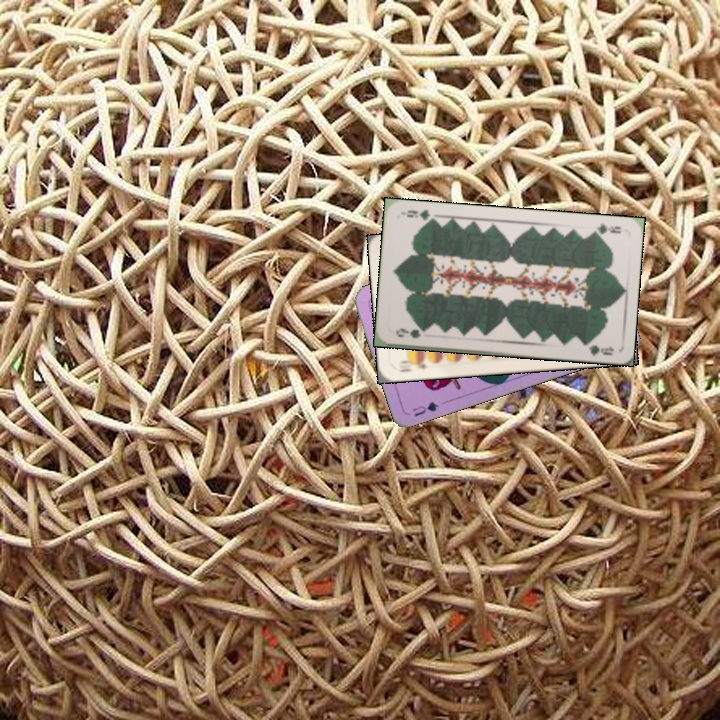E10: (394, 355, 429, 375)
G9: (586, 219, 623, 238), (392, 324, 430, 341)
GU: (408, 397, 442, 420)
